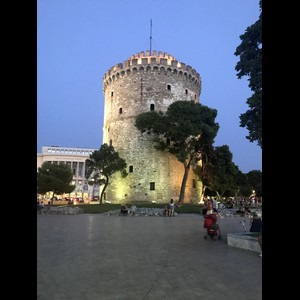White Tower: (96, 18, 206, 206)
